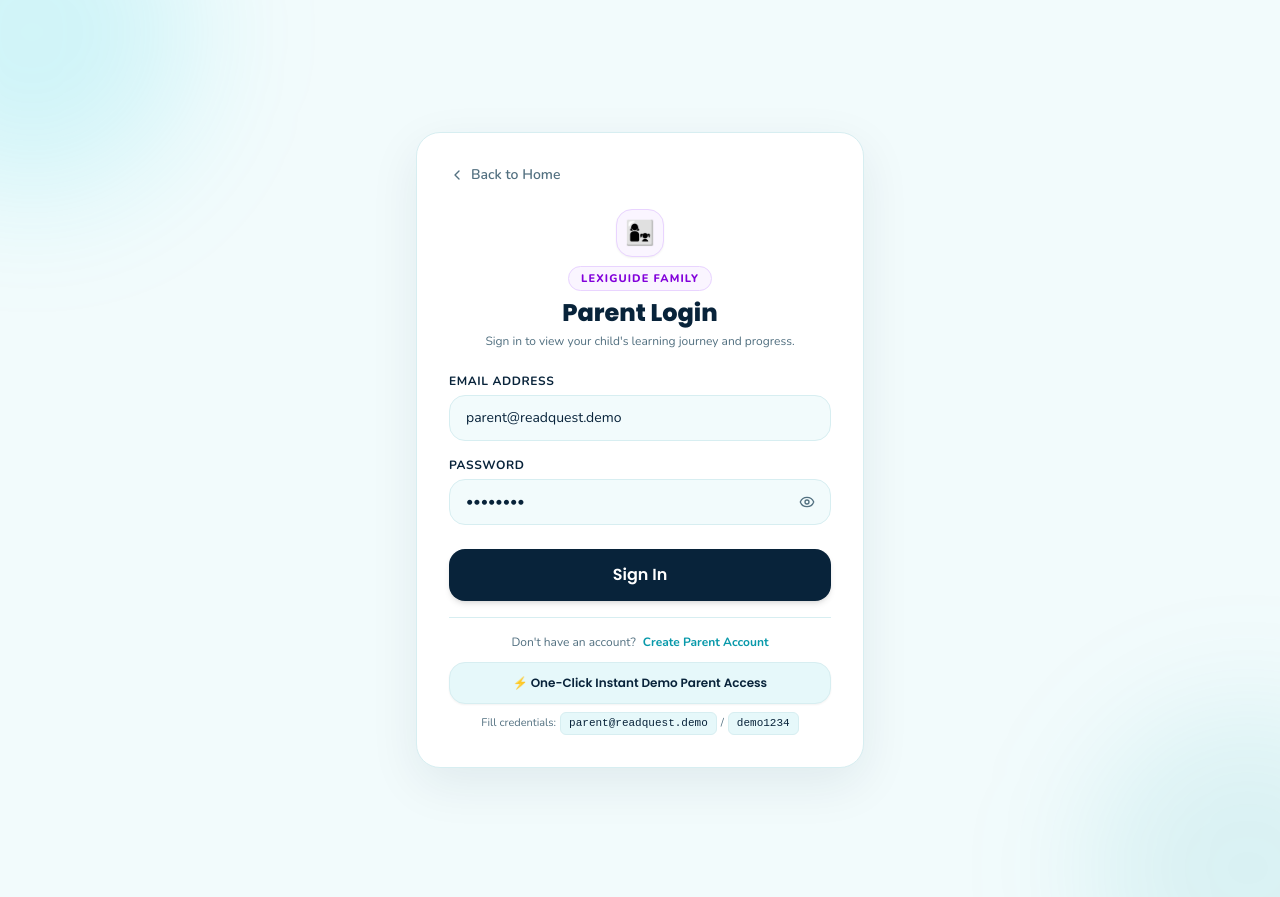
Test: Phase 7 / Step 1: login pages enforce real auth and reject invalid or unreachable credentials › Parent login proceeds to dashboard on a real successful login
Click the button "Sign In". click: click(640, 575)
box: x1=449 y1=549 x2=831 y2=601
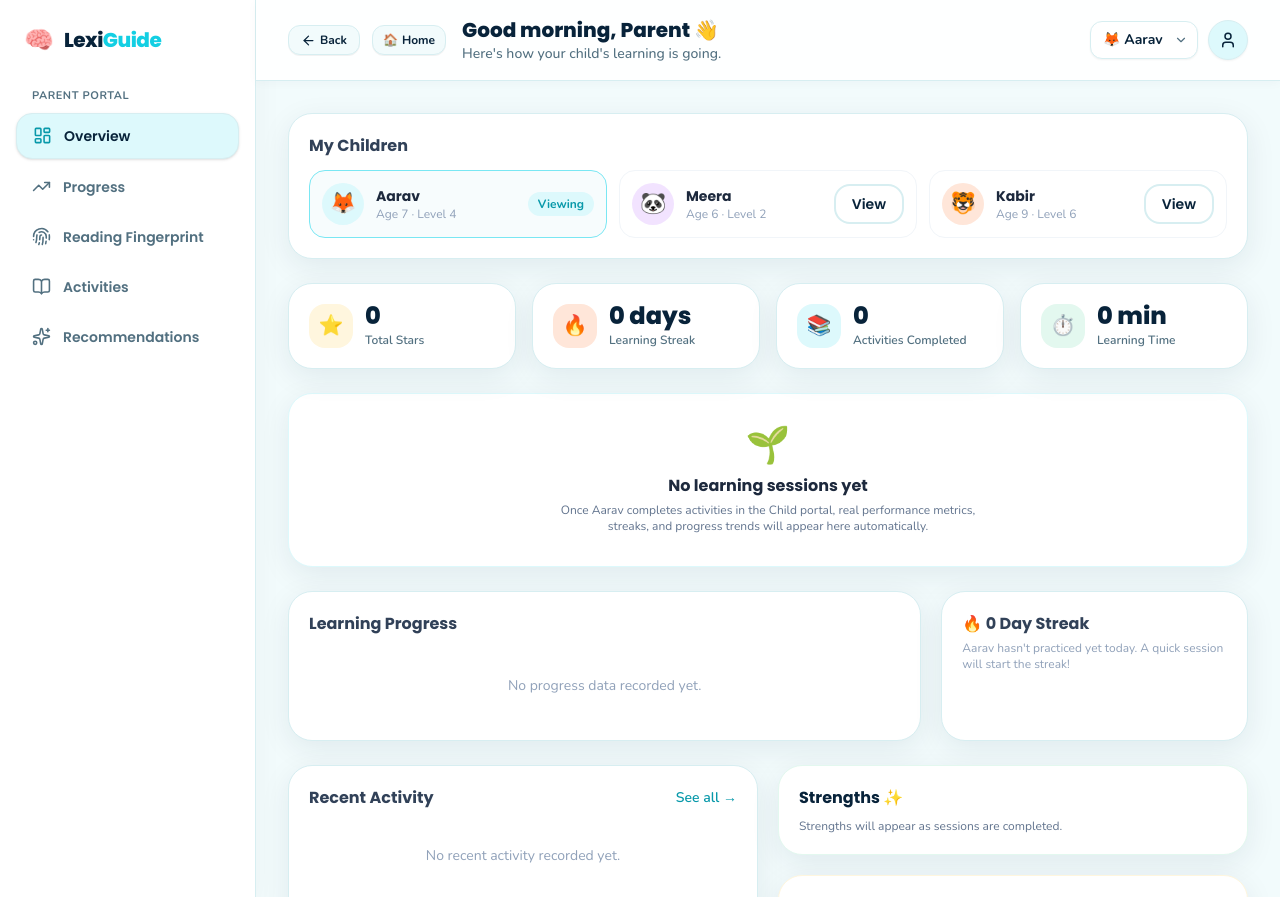
Expected: the heading "Good morning, Parent 👋" is shown, x1=462 y1=16 x2=721 y2=44
